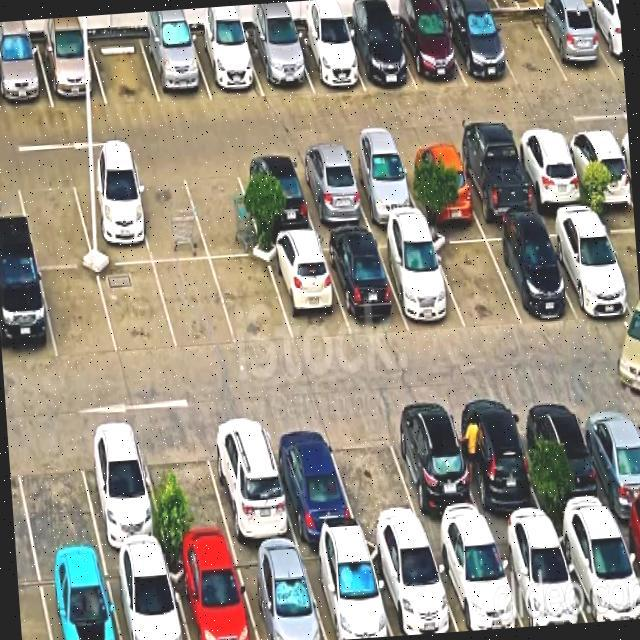Car: (210, 448, 288, 564), (398, 424, 470, 538), (86, 458, 160, 568), (284, 447, 348, 562), (528, 406, 592, 520), (462, 419, 528, 528), (564, 217, 628, 328), (391, 230, 455, 334), (504, 222, 566, 328), (78, 163, 144, 260), (572, 529, 640, 622), (382, 549, 454, 636), (448, 540, 516, 632), (316, 549, 384, 640), (468, 134, 528, 236), (411, 132, 470, 235), (249, 556, 321, 640), (272, 242, 336, 336), (337, 231, 395, 334), (514, 534, 578, 627), (241, 153, 307, 243), (522, 132, 580, 234), (574, 126, 631, 228), (177, 561, 250, 640), (146, 8, 204, 107), (588, 409, 640, 516), (350, 0, 407, 92), (198, 4, 253, 98), (354, 144, 410, 234), (251, 1, 305, 94), (41, 574, 117, 640), (302, 0, 355, 94), (114, 569, 182, 640), (402, 0, 456, 89), (42, 15, 94, 104), (304, 150, 358, 234), (0, 271, 49, 361), (452, 0, 504, 83), (541, 0, 596, 70), (0, 19, 41, 108)
Vacant: (20, 452, 96, 574), (152, 450, 222, 562), (338, 440, 412, 545), (443, 235, 511, 330), (140, 162, 200, 262), (102, 257, 165, 351), (45, 268, 110, 359), (197, 158, 256, 253), (21, 181, 85, 268), (94, 12, 152, 108), (216, 252, 277, 342), (160, 256, 220, 340), (495, 0, 552, 81)
